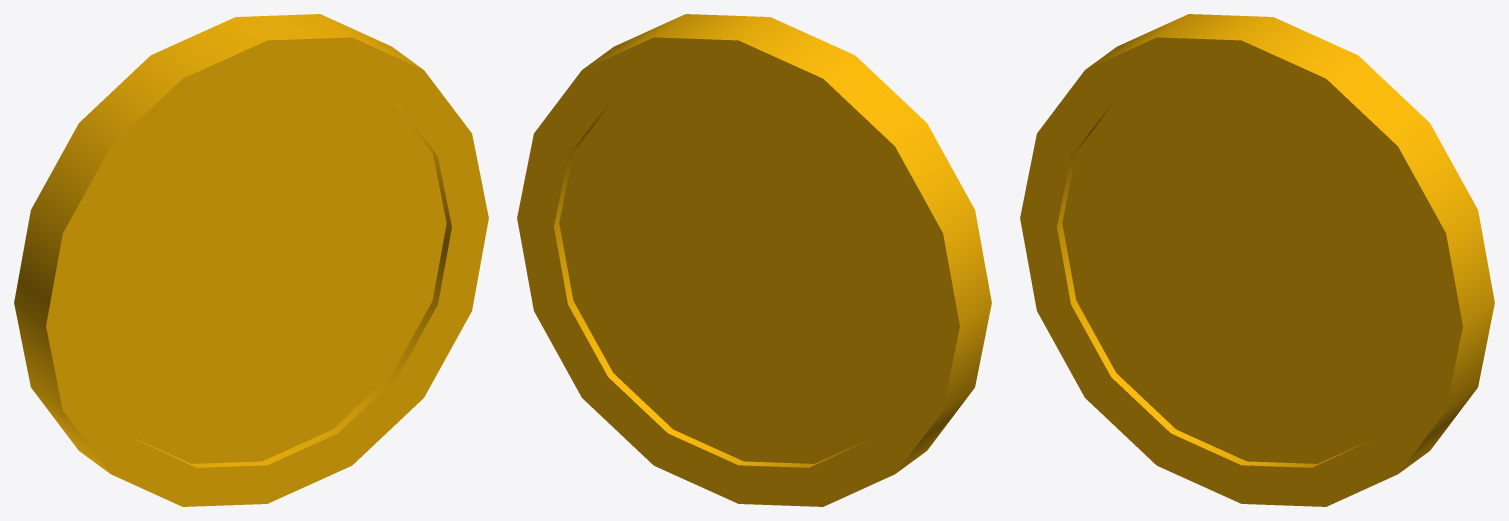
Rendered from Coin 1.fbx.
The picture shows the model from 3 angles, left to right: view 1: azimuth 30°, elevation 25°; view 2: azimuth 150°, elevation 25°; view 3: azimuth 330°, elevation 25°; orthographic projection.
Visible parts, largest first — view 1: Coin; view 2: Coin; view 3: Coin.
Part boxes in pixels (x1,y1,x2,y2): Coin: [14, 14, 488, 506]; Coin: [517, 14, 991, 506]; Coin: [1020, 14, 1494, 506].
Size of the model in its own units: 120 by 120 by 15.
